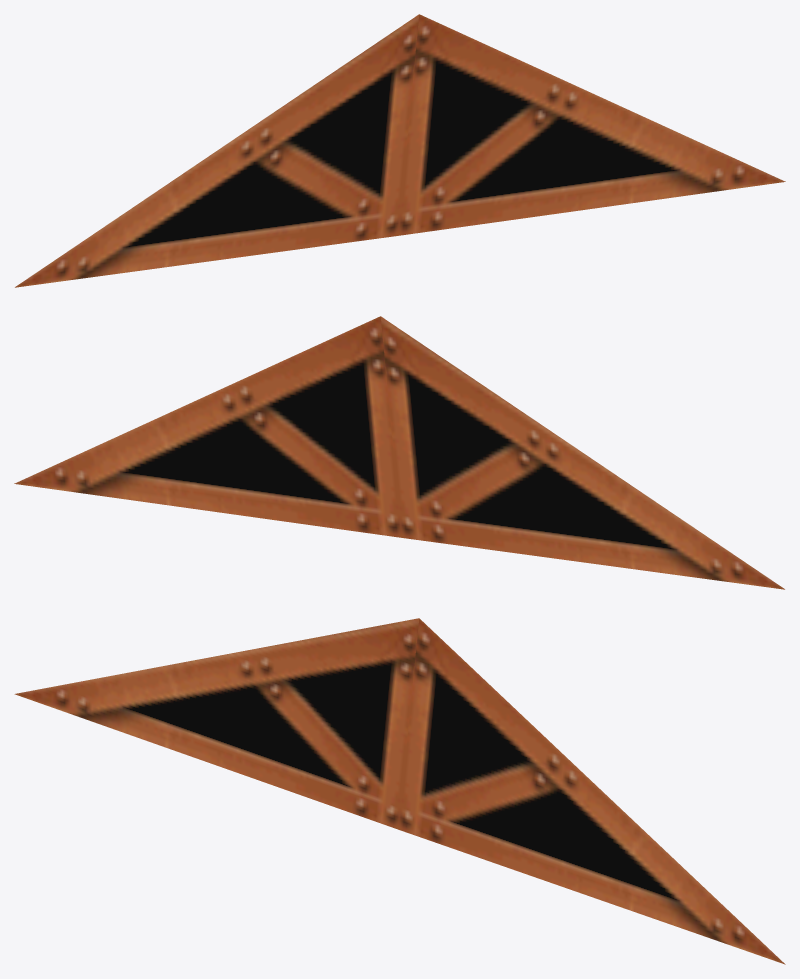
File: truss01.glb
The picture shows the model from 3 angles, top to bottom: view 1: azimuth 30°, elevation 25°; view 2: azimuth 150°, elevation 25°; view 3: azimuth 330°, elevation 25°; orthographic projection.
Parts seen in each view (by area): view 1: truss01; view 2: truss01; view 3: truss01.
Boxes of the visible parts, x1,y1,x2,y2 form: truss01: [15, 14, 785, 287]; truss01: [14, 316, 784, 589]; truss01: [14, 618, 785, 964].
Size of the model in its own units: 807 by 257 by 0.
1 material, 1 textured.
